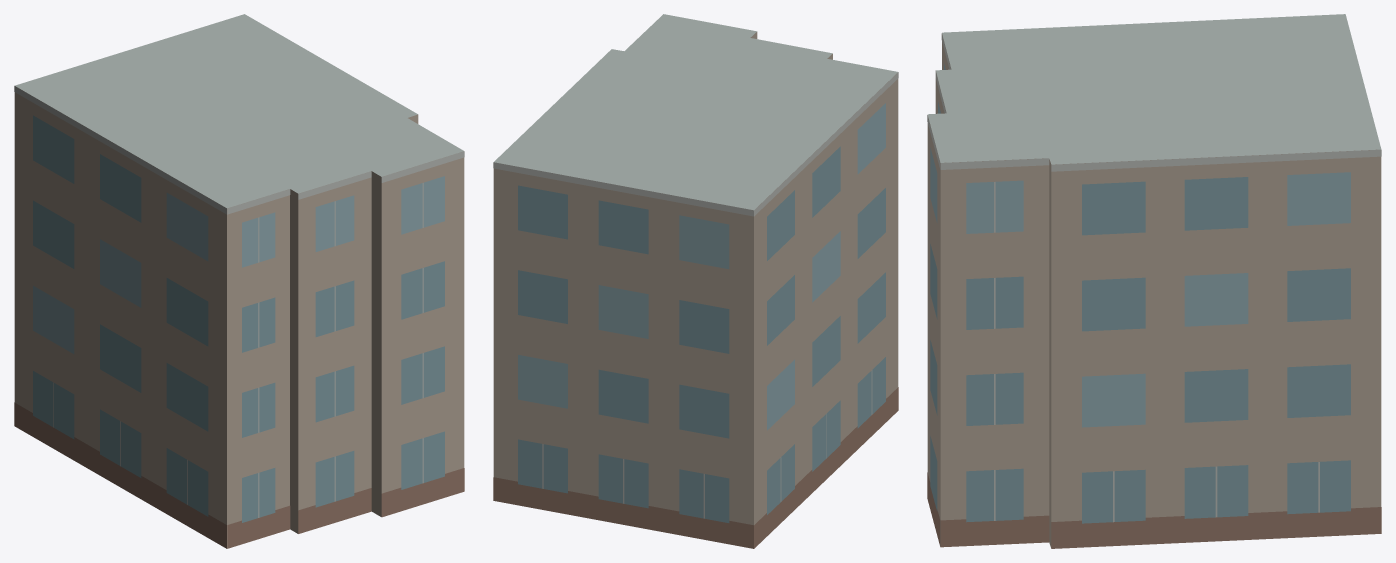
Rendered from survey-upis-32632203.glb.
3 renders of one model, left to right at view 1: azimuth 30°, elevation 25°; view 2: azimuth 150°, elevation 25°; view 3: azimuth 270°, elevation 25°, orthographic. The views are drawn at different scales.
Visible parts, largest first — view 1: survey-upis-32632203.tmp; view 2: survey-upis-32632203.tmp; view 3: survey-upis-32632203.tmp.
Boxes of the visible parts, left/top/right/bottom form: survey-upis-32632203.tmp: left=14, top=14, right=464, bottom=548; survey-upis-32632203.tmp: left=493, top=14, right=898, bottom=548; survey-upis-32632203.tmp: left=927, top=14, right=1381, bottom=548.
Bounding box in the file's own units: 11.11 × 13.2 × 14.15.
